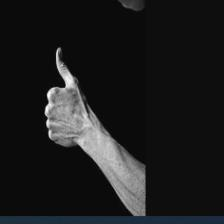five: (42, 43, 93, 157)
